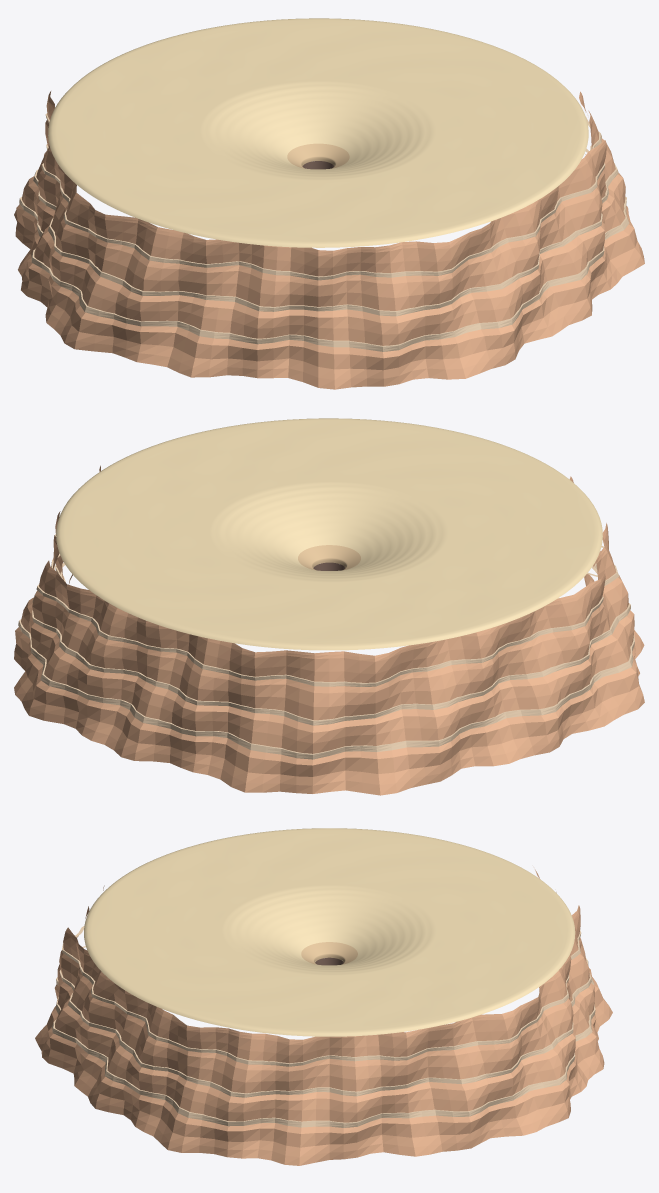
File: SandPit.glb
3 views of the same model, one above another, from view 1: azimuth 30°, elevation 25°; view 2: azimuth 150°, elevation 25°; view 3: azimuth 270°, elevation 25° (orthographic). The views are drawn at different scales.
Parts seen in each view (by area): view 1: Sand, Cliff, Strata, Lip; view 2: Sand, Cliff, Strata, Lip; view 3: Sand, Cliff, Strata, Lip.
Part boxes in pixels (box(x1,y1,x2,y2)): Sand: box(48, 18, 588, 247); Cliff: box(14, 91, 644, 389); Strata: box(19, 113, 629, 351); Lip: box(287, 143, 349, 168); Sand: box(56, 418, 602, 650); Cliff: box(14, 465, 644, 795); Strata: box(18, 534, 634, 759); Lip: box(298, 545, 360, 570); Sand: box(84, 828, 575, 1036); Cliff: box(35, 869, 612, 1165); Strata: box(52, 926, 595, 1127); Lip: box(301, 942, 357, 964).
Size of the model in its own units: 200 by 40.4 by 200.
